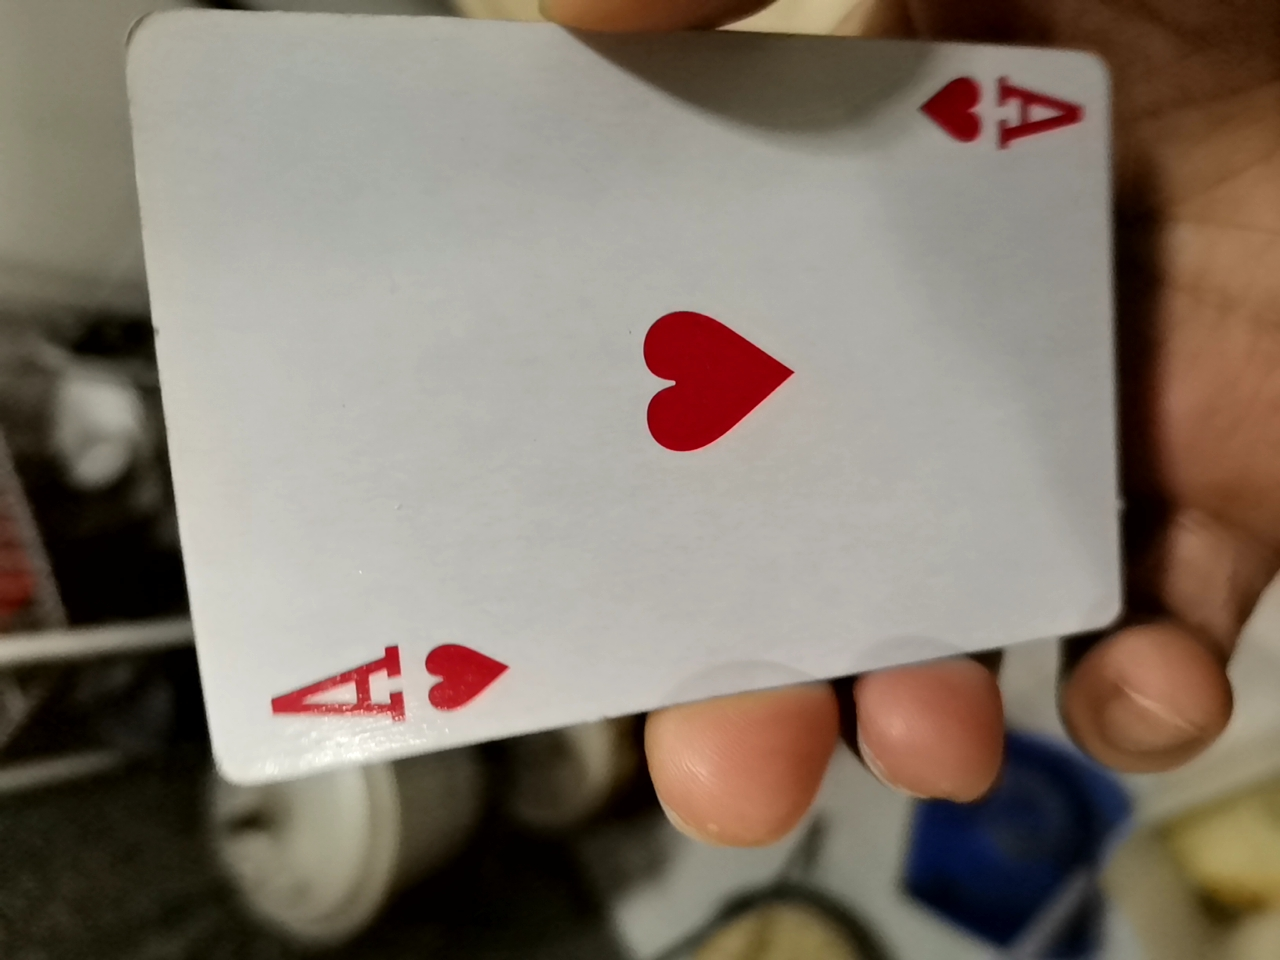hx a: (84, 19, 1197, 855)
